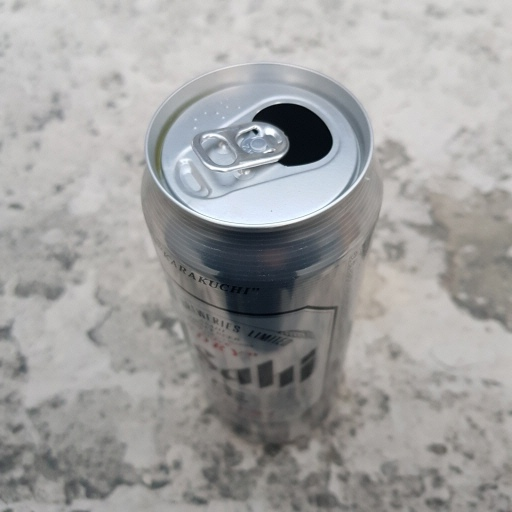Metal_0: (143, 60, 385, 446)
